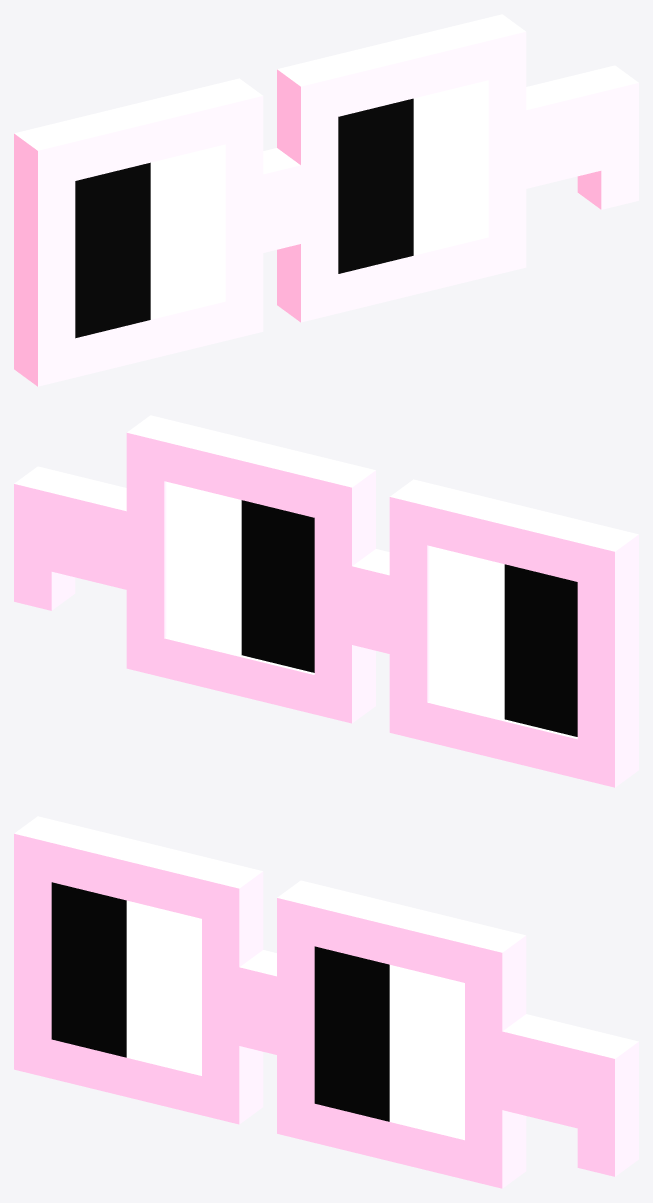
The model's file is Hip-rose.glb.
The picture shows the model from 3 angles, top to bottom: view 1: azimuth 30°, elevation 25°; view 2: azimuth 150°, elevation 25°; view 3: azimuth 330°, elevation 25°; orthographic projection.
Visible parts, largest first — view 1: Plane.004, Cube.004, Cube.001, Cube.003; view 2: Plane.004, Cube.004, Cube.003, Cube.001; view 3: Plane.004, Cube.004, Cube.001, Cube.003.
Part boxes in pixels (bbox=[...]): Plane.004: bbox=[14, 14, 638, 386]; Cube.004: bbox=[150, 80, 488, 319]; Cube.001: bbox=[338, 98, 413, 273]; Cube.003: bbox=[75, 162, 150, 338]; Plane.004: bbox=[14, 415, 638, 787]; Cube.004: bbox=[166, 481, 504, 719]; Cube.003: bbox=[504, 564, 577, 736]; Cube.001: bbox=[241, 500, 314, 672]; Plane.004: bbox=[14, 816, 638, 1188]; Cube.004: bbox=[126, 900, 464, 1140]; Cube.001: bbox=[314, 946, 389, 1121]; Cube.003: bbox=[51, 882, 126, 1057].
Bounding box in the file's own units: 16 × 6 × 1.1.
